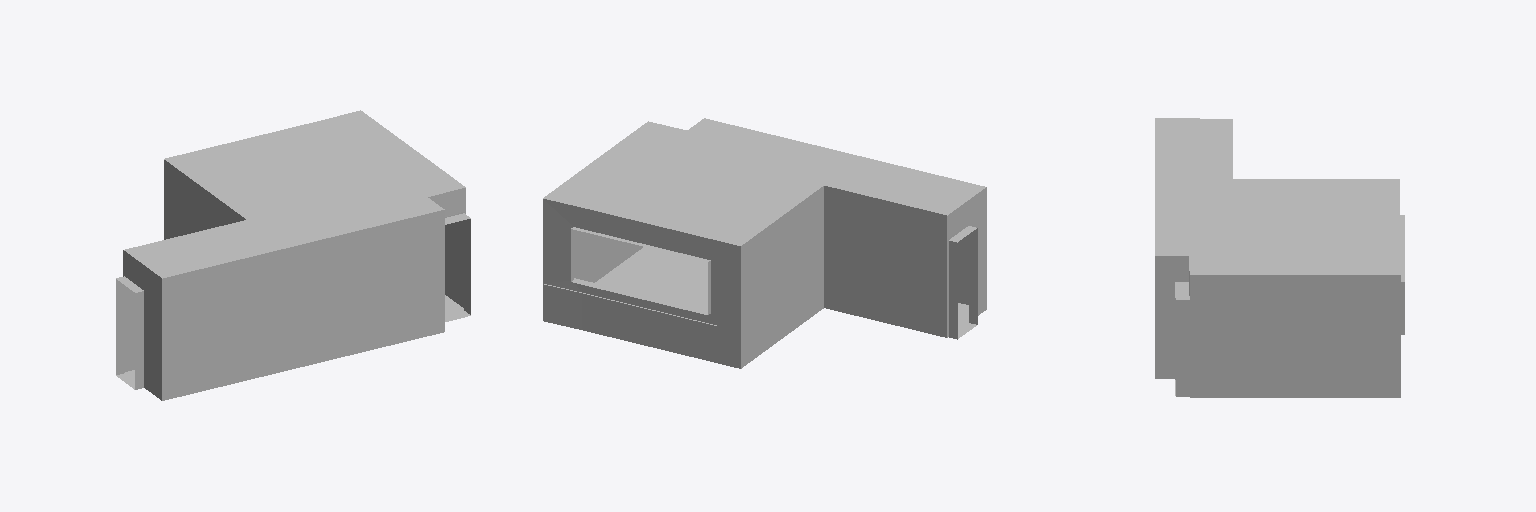
Rendered from quarto.obj.
The picture shows the model from 3 angles: view 1: azimuth 30°, elevation 25°; view 2: azimuth 150°, elevation 25°; view 3: azimuth 270°, elevation 25°; orthographic projection.
Parts seen in each view (by area): view 1: Plane_Plane.001; view 2: Plane_Plane.001; view 3: Plane_Plane.001.
Boxes of the visible parts, x1=… form: Plane_Plane.001: x1=116, y1=110, x2=470, y2=400; Plane_Plane.001: x1=543, y1=118, x2=986, y2=368; Plane_Plane.001: x1=1155, y1=118, x2=1404, y2=397.
Size of the model in its own units: 7.33 by 2.6 by 4.8.